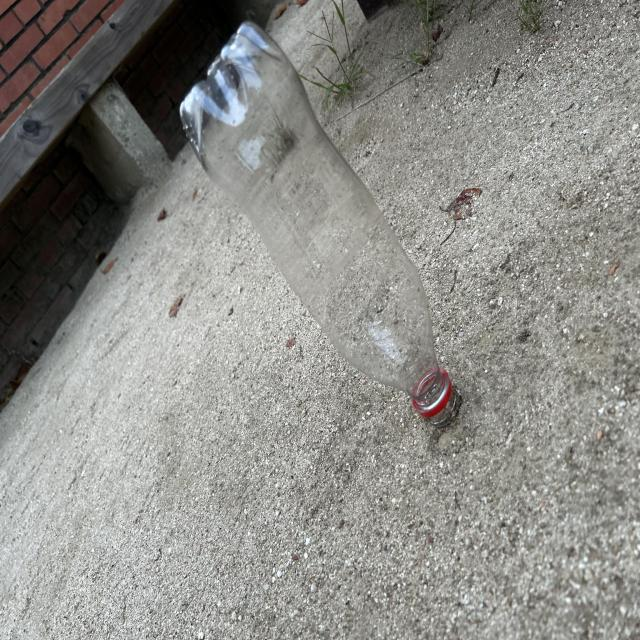empty: (180, 22, 459, 425)
